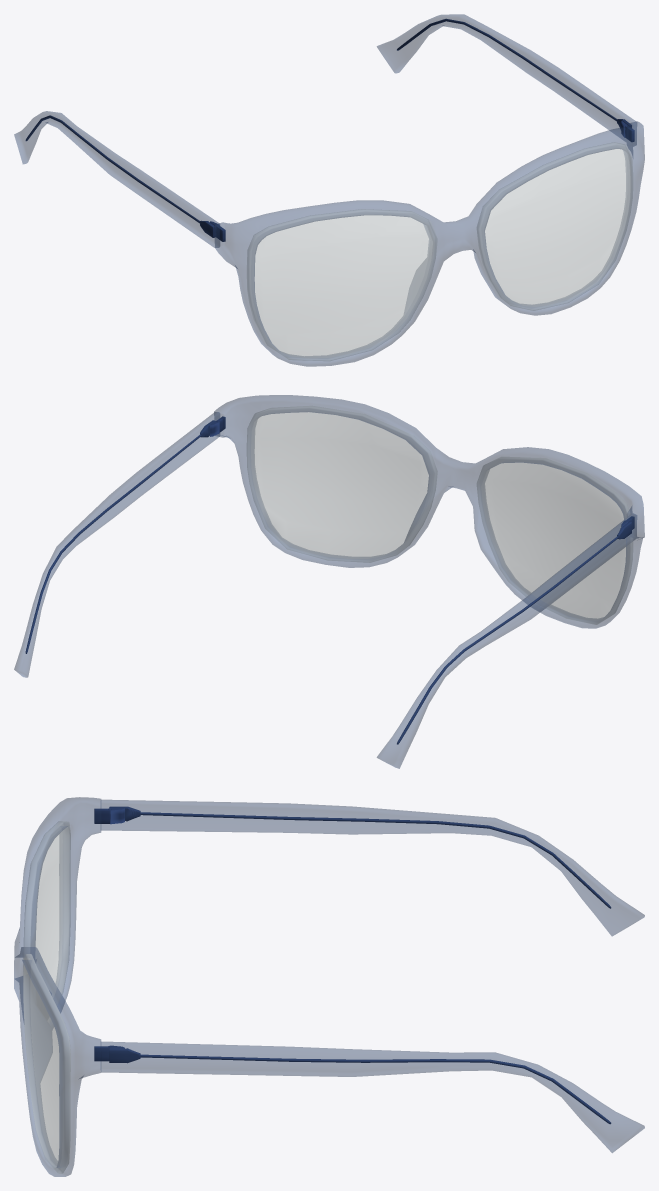
Rendered from wayfarer-klasik-gece-mavisi.glb.
3 renders of one model, top to bottom at view 1: azimuth 30°, elevation 25°; view 2: azimuth 150°, elevation 25°; view 3: azimuth 270°, elevation 25°, orthographic. The views are drawn at different scales.
Visible parts, largest first — view 1: OPTIK_PRODUCT_222; view 2: OPTIK_PRODUCT_222; view 3: OPTIK_PRODUCT_222.
Part boxes in pixels (x1,y1,x2,y2): OPTIK_PRODUCT_222: (14,14,644,366); OPTIK_PRODUCT_222: (14,395,644,768); OPTIK_PRODUCT_222: (14,797,644,1176).
Size of the model in its own units: 0.151 by 0.0546 by 0.1636.
